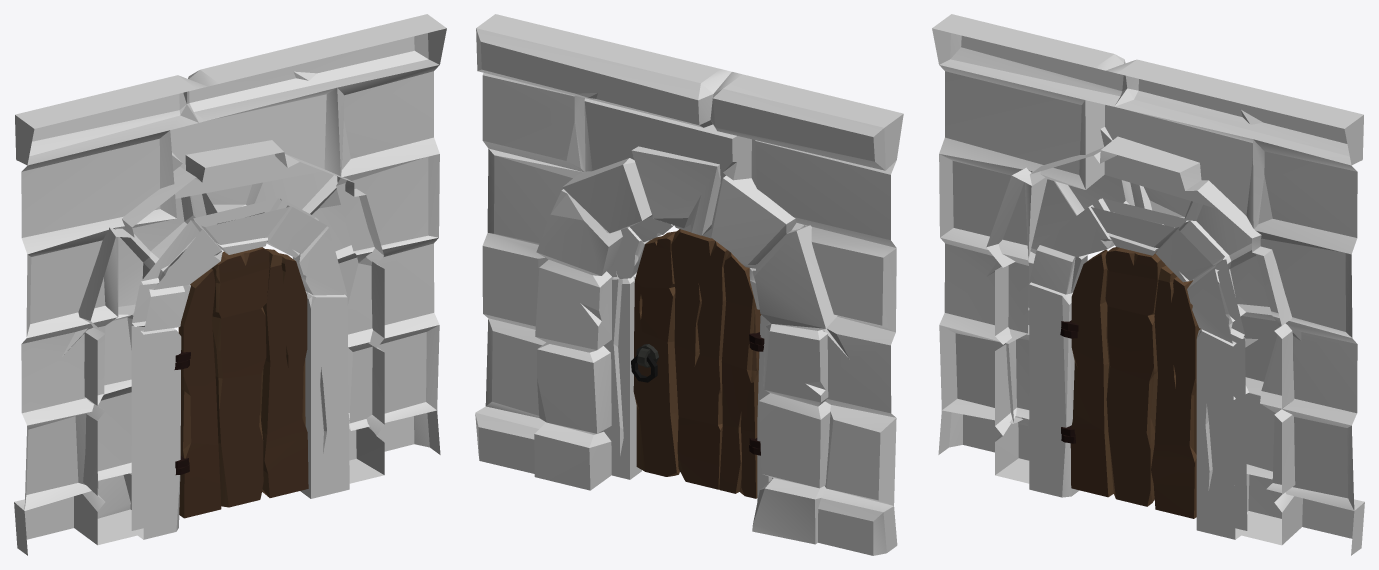
Rendered from NGF_Env_Stone_doorway_on_the_foundation_04.fbx.
3 renders of one model, left to right at view 1: azimuth 30°, elevation 25°; view 2: azimuth 150°, elevation 25°; view 3: azimuth 330°, elevation 25°, orthographic.
Parts seen in each view (by area): view 1: NGF_Env_Stone_doorway_on_the_foundation_04, NGF_Env_Door_arc_02, NGF_Env_Door_02; view 2: NGF_Env_Stone_doorway_on_the_foundation_04, NGF_Env_Door_02, NGF_Env_Door_arc_02; view 3: NGF_Env_Stone_doorway_on_the_foundation_04, NGF_Env_Door_arc_02, NGF_Env_Door_02.
Boxes of the visible parts, box(x1,y1,x2,y2) form: NGF_Env_Stone_doorway_on_the_foundation_04: box(14, 14, 446, 555); NGF_Env_Door_arc_02: box(131, 198, 349, 539); NGF_Env_Door_02: box(178, 247, 308, 518); NGF_Env_Stone_doorway_on_the_foundation_04: box(475, 14, 903, 555); NGF_Env_Door_02: box(633, 229, 761, 498); NGF_Env_Door_arc_02: box(603, 216, 772, 501); NGF_Env_Stone_doorway_on_the_foundation_04: box(932, 14, 1364, 555); NGF_Env_Door_arc_02: box(1029, 198, 1247, 539); NGF_Env_Door_02: box(1070, 247, 1200, 518).
Bounding box in the file's own units: 4 × 4 × 0.6027.
Materials: 1 (1 with a texture image).
